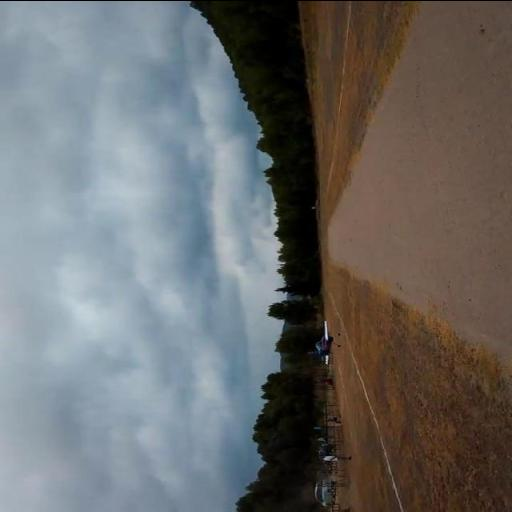uav: (307, 320, 340, 364)
